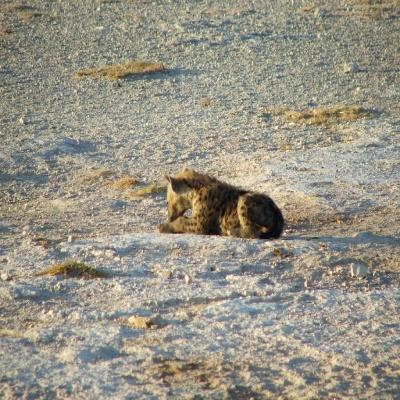hyenas: (155, 155, 291, 253)
